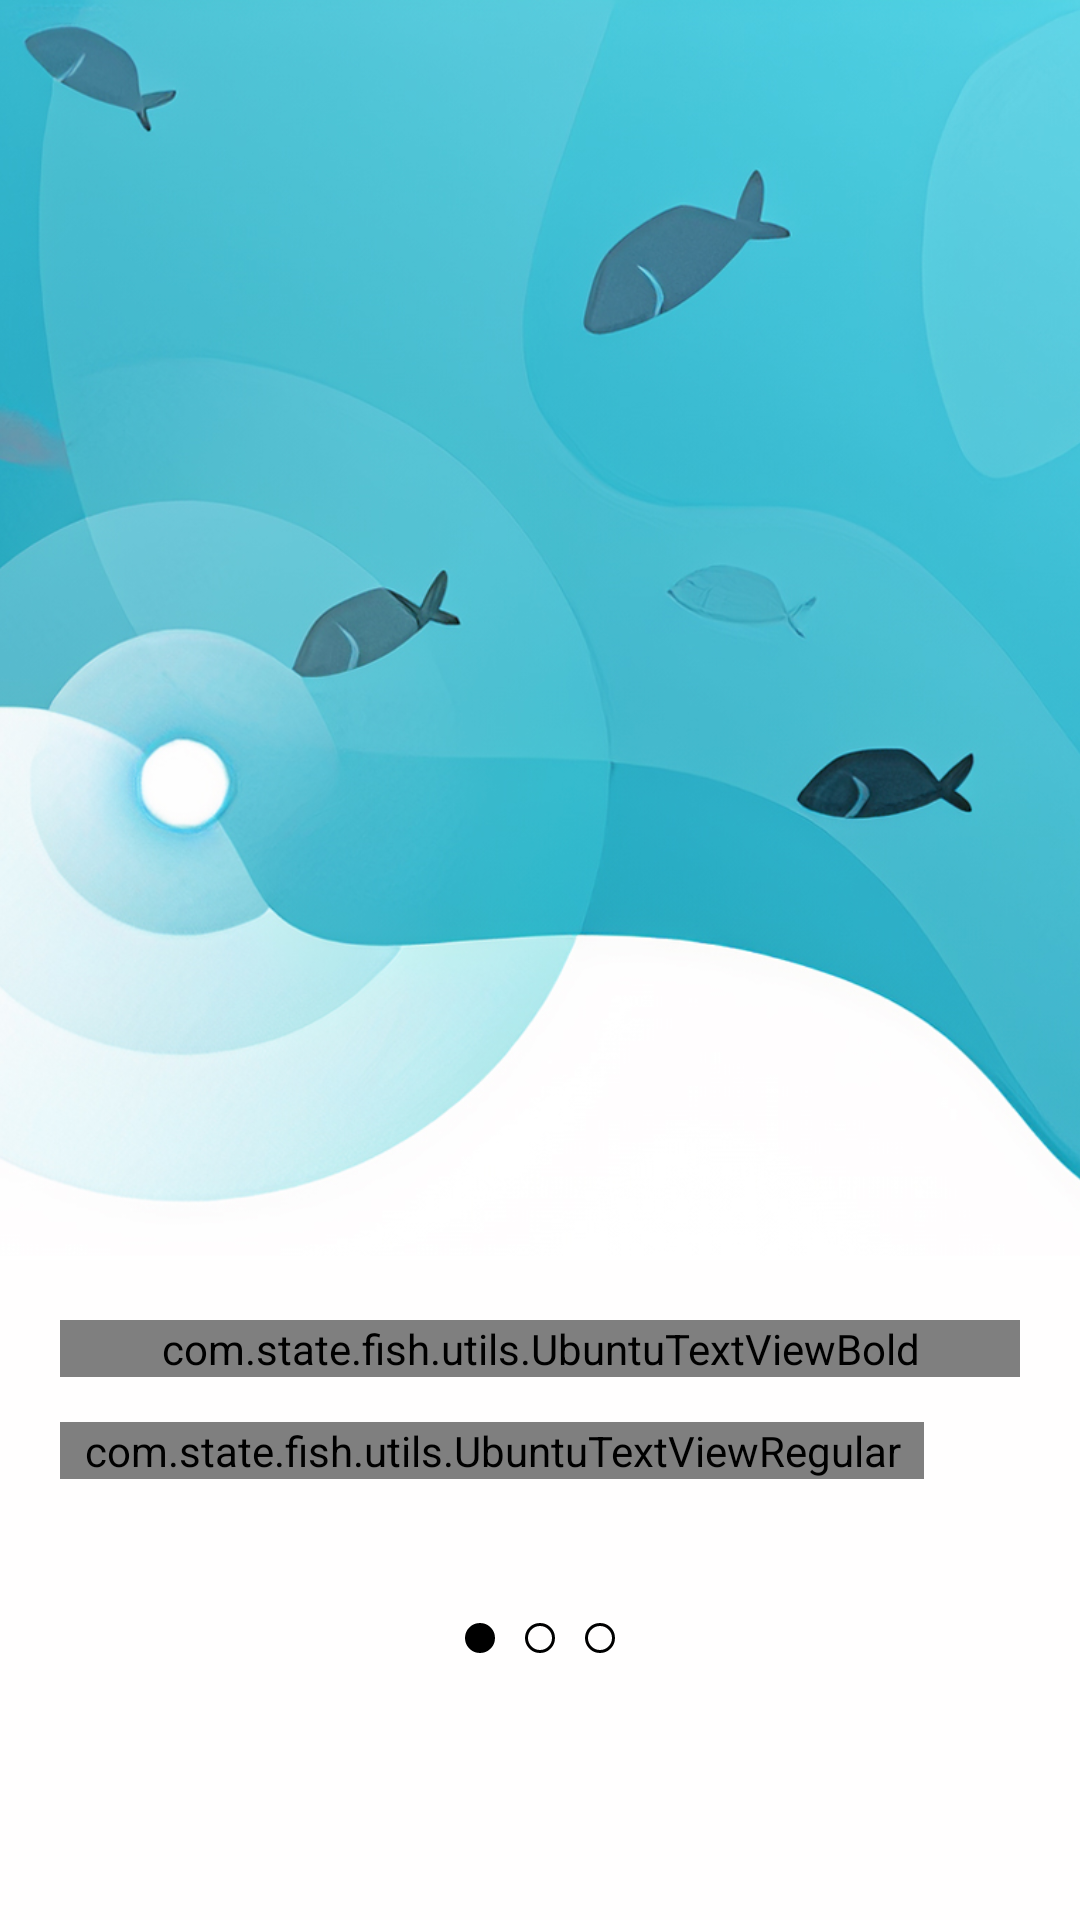

Where to tap for icons on this 1080 x 1920 app screen, as point (x, y):
circle: point (480, 1638)
circle blank: point (540, 1638), point (600, 1638)
